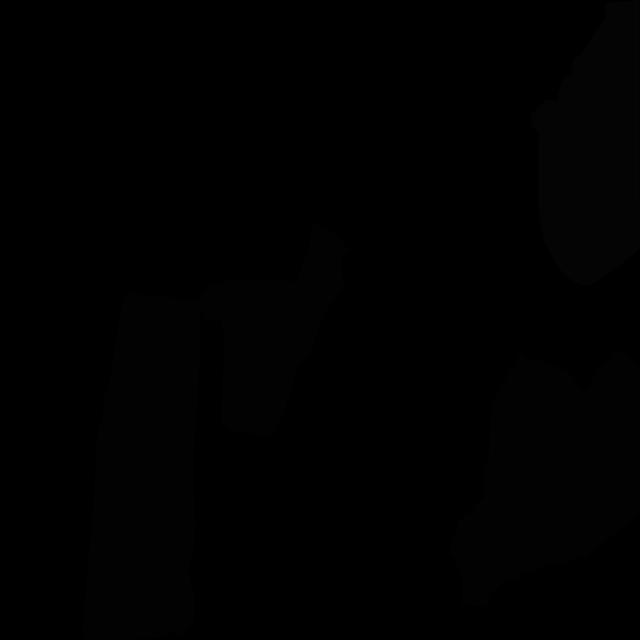cardboard: (52, 293, 201, 640), (448, 351, 640, 607), (197, 223, 350, 437)
soft_plastic: (530, 0, 640, 286)
